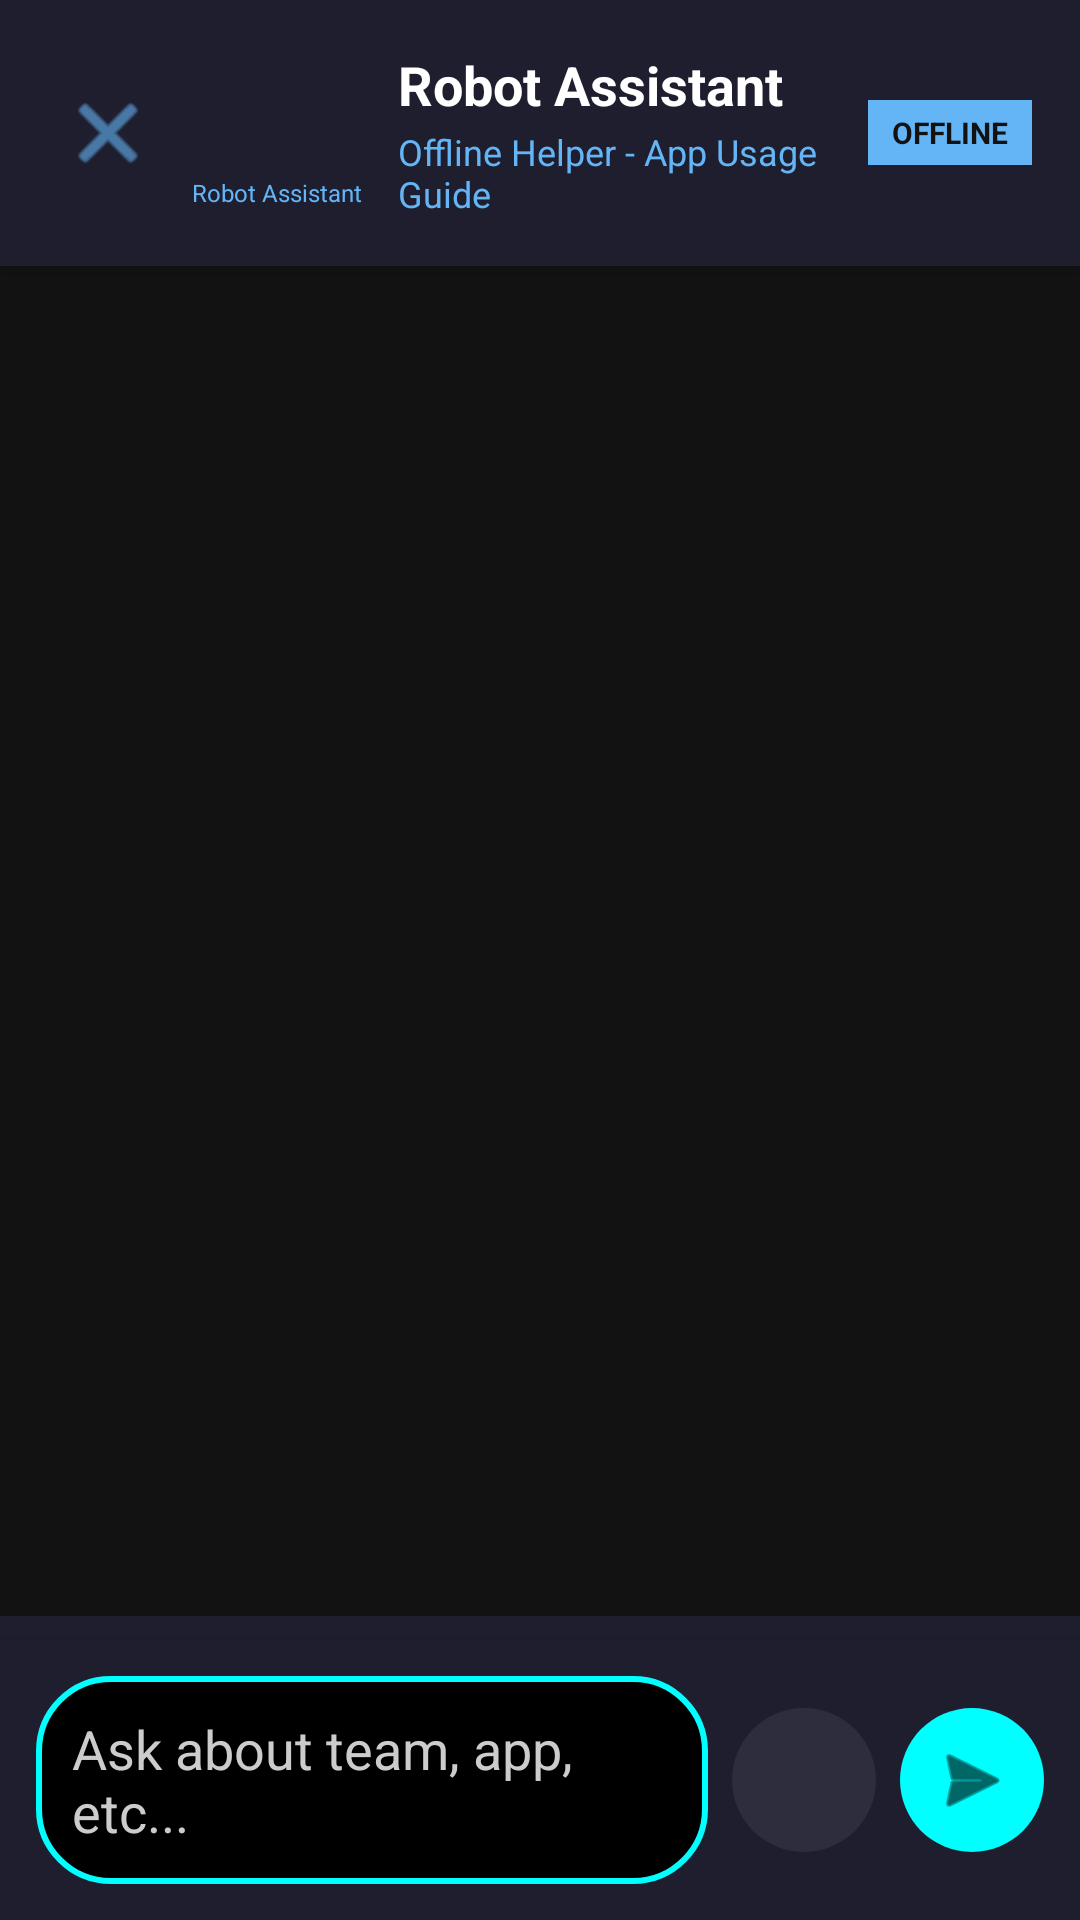

Point at icon controls on the screen. Image size 1080x1920, points as (x,y).
Send: (972,1780)
